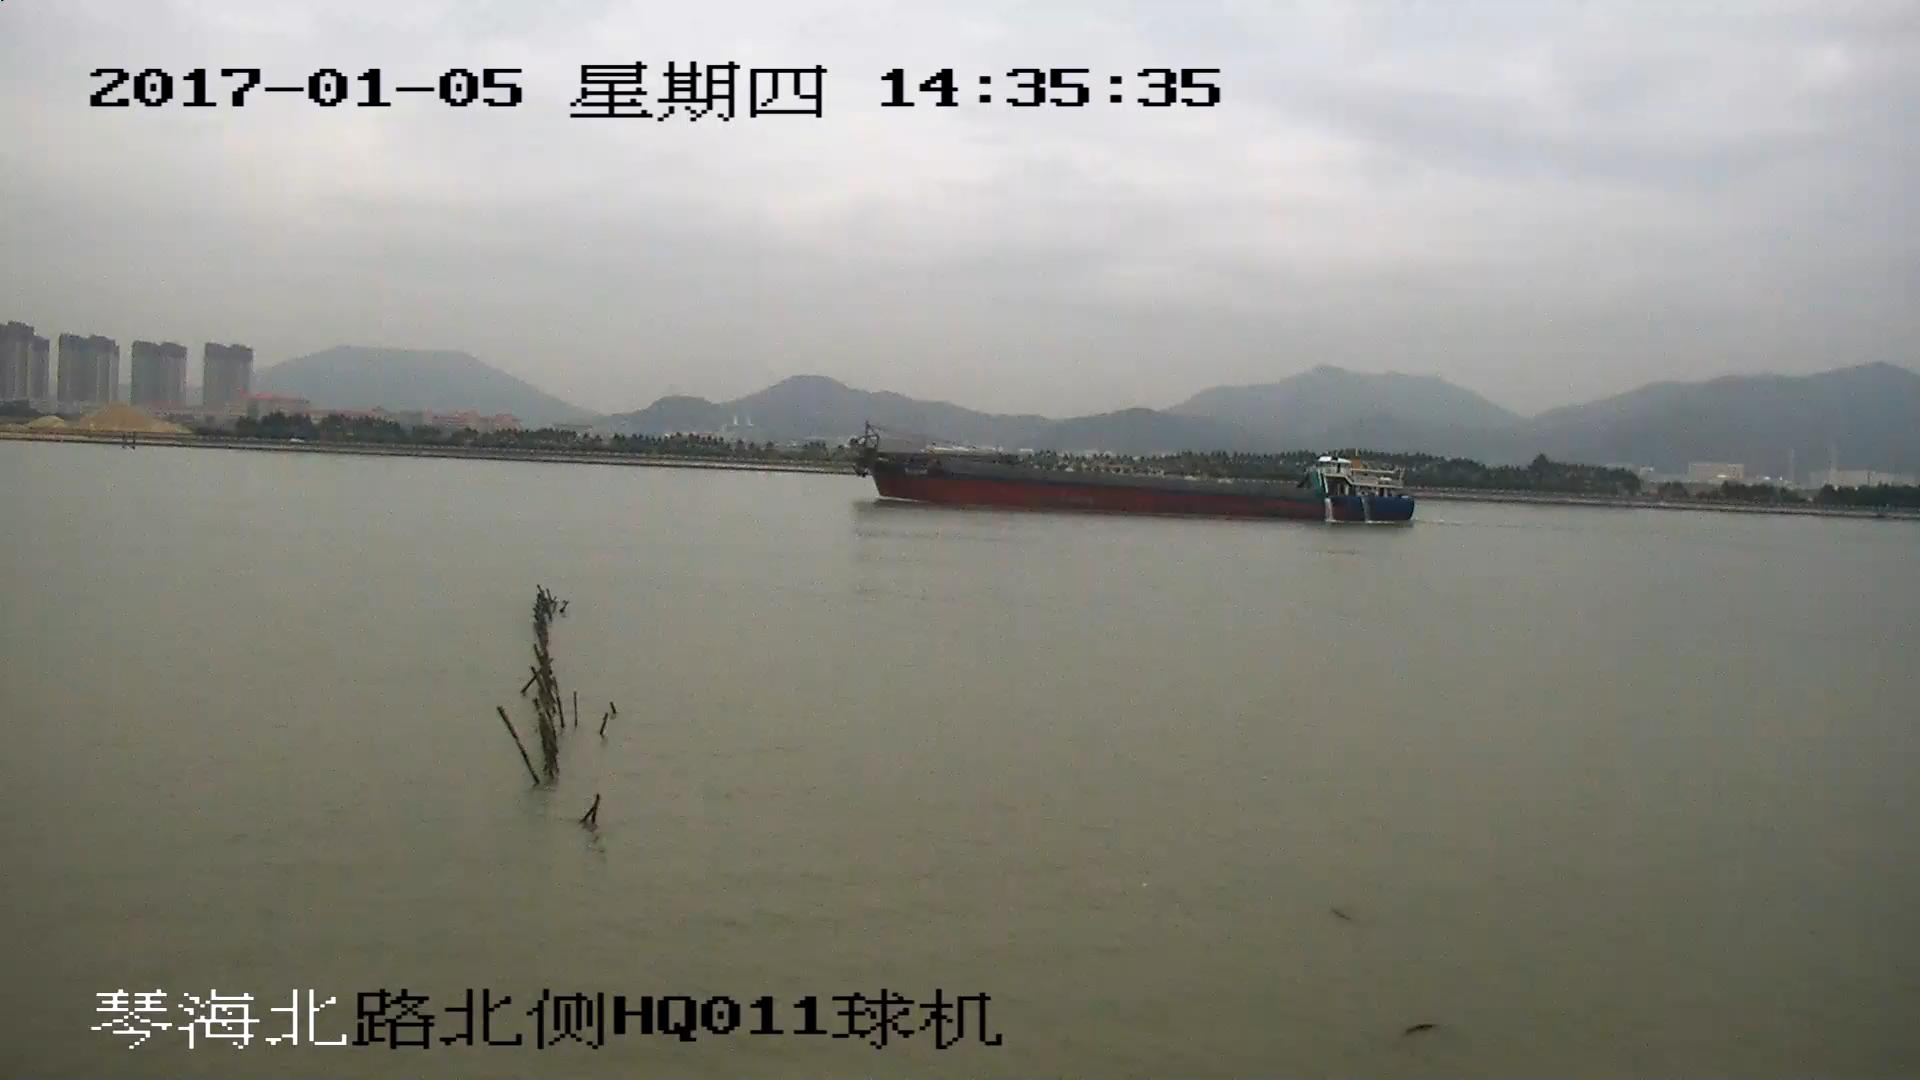bulk cargo carrier: (848, 424, 1415, 524)
